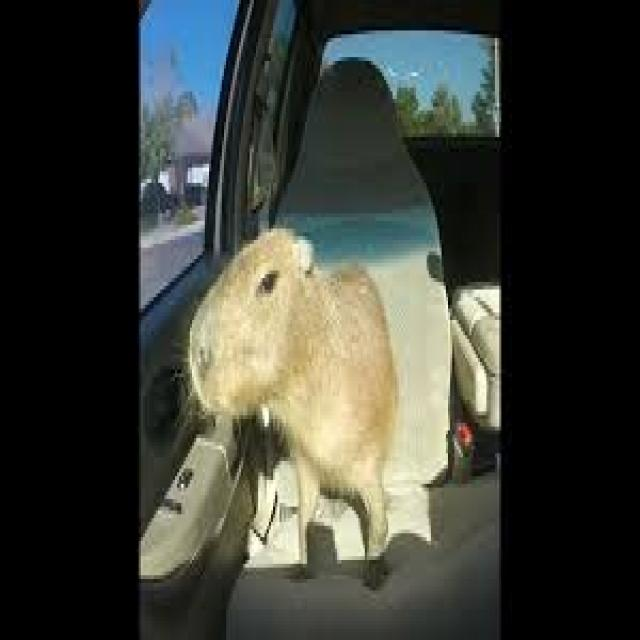capy: (184, 219, 400, 600)
